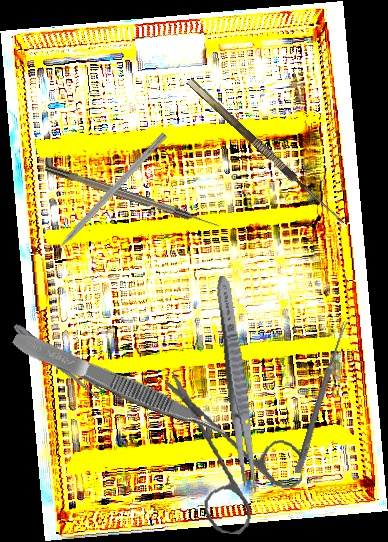Chopper: (38, 125, 168, 263)
Dressing Forceps: (210, 274, 264, 495), (10, 320, 106, 401)
Hook Surgical: (186, 69, 353, 227), (44, 162, 221, 232)
Iris Scissors: (147, 371, 313, 542)
Surgical Spoon: (294, 319, 349, 475)
Tissue Forceps: (9, 326, 230, 446)
